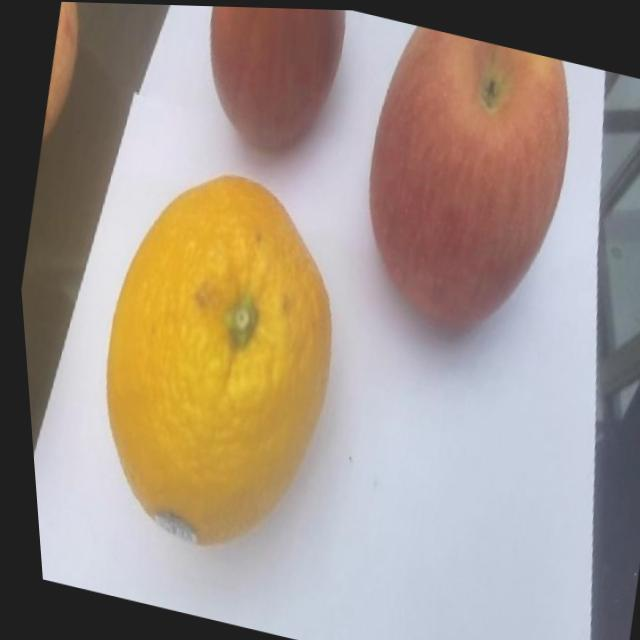Apple: (329, 16, 598, 355), (182, 4, 358, 162), (33, 1, 104, 140)
Orange: (55, 151, 373, 572)
